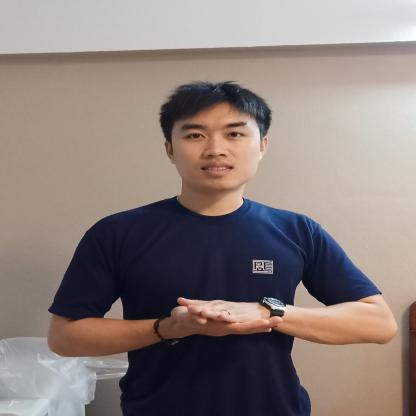Love: (108, 272, 317, 376)
